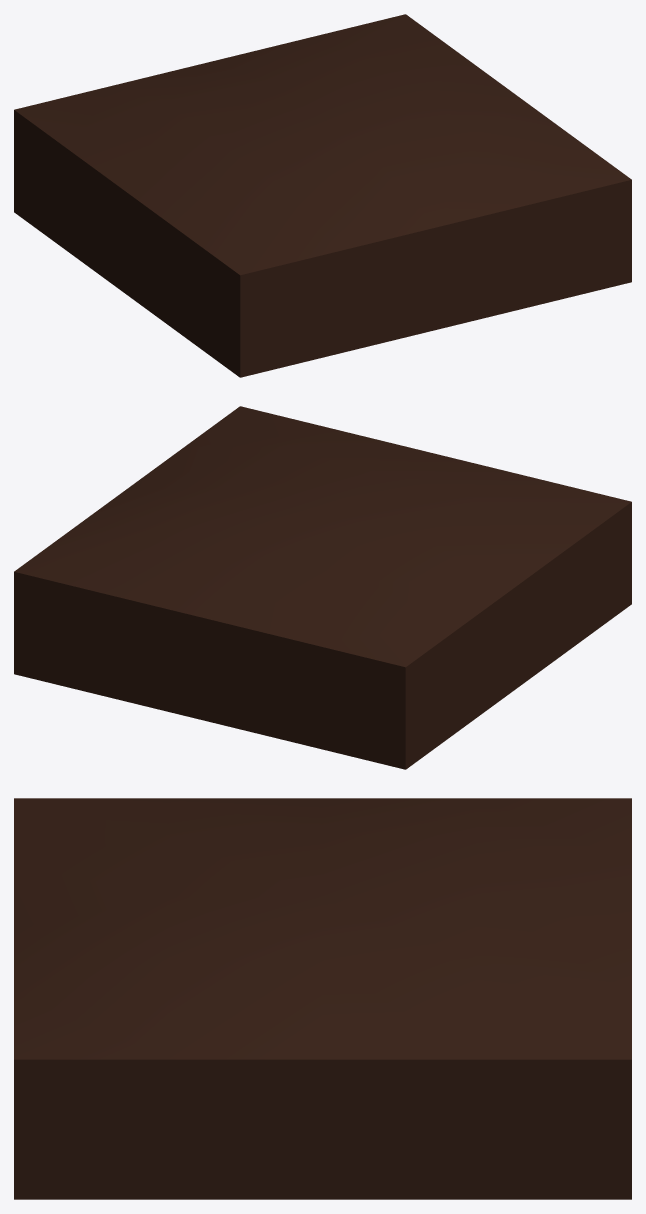
The model's file is uniformedTile-09_col.fbx.
The picture shows the model from 3 angles, top to bottom: view 1: azimuth 30°, elevation 25°; view 2: azimuth 150°, elevation 25°; view 3: azimuth 270°, elevation 25°; orthographic projection. The views are drawn at different scales.
Parts seen in each view (by area): view 1: uniformedTile-09.col; view 2: uniformedTile-09.col; view 3: uniformedTile-09.col.
Part boxes in pixels (box(x1,y1,x2,y2)): uniformedTile-09.col: box(14, 14, 631, 377); uniformedTile-09.col: box(14, 406, 631, 769); uniformedTile-09.col: box(14, 798, 631, 1199).
Size of the model in its own units: 2 by 0.6201 by 2.
1 material, 1 textured.
